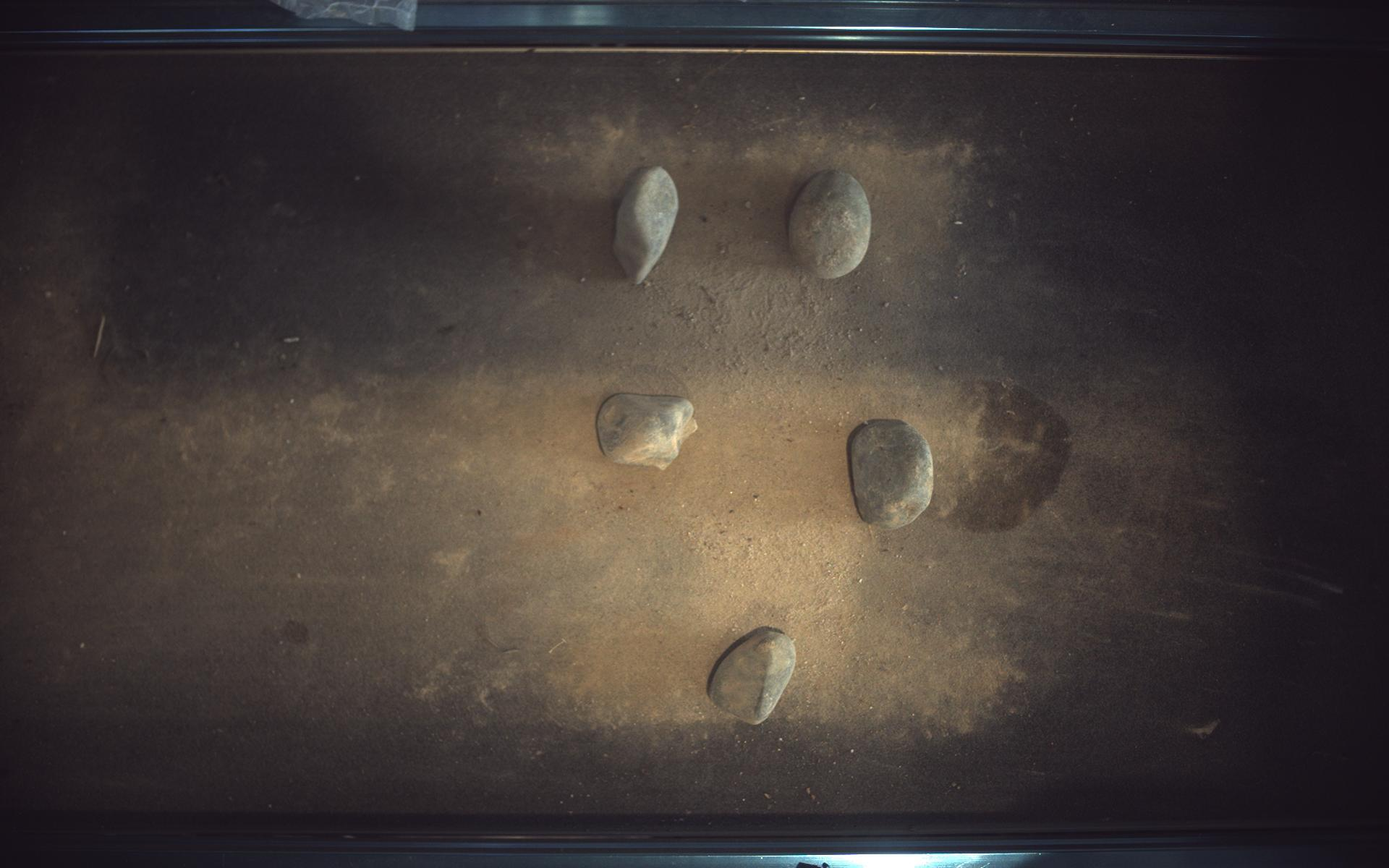stone: (850, 420, 935, 529), (790, 169, 873, 278), (709, 627, 797, 726), (597, 393, 699, 469), (614, 166, 679, 284)
